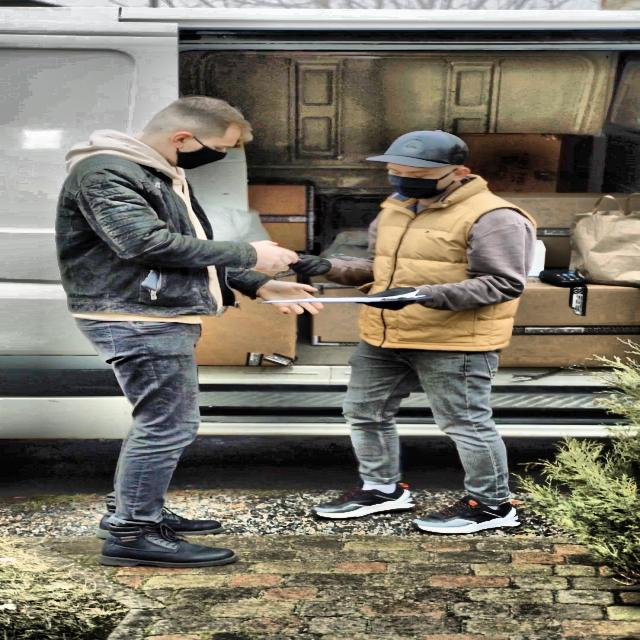gloved: (223, 219, 316, 270), (242, 280, 336, 324), (354, 281, 421, 313), (291, 251, 330, 280)
